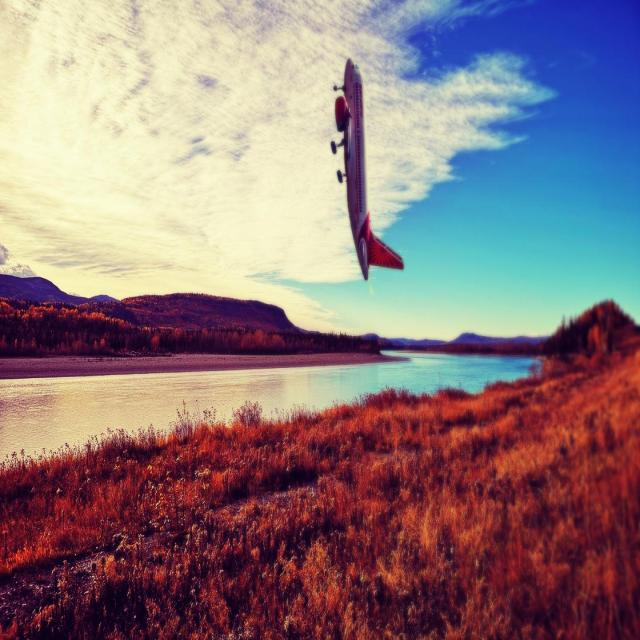airplane: (329, 57, 404, 281)
